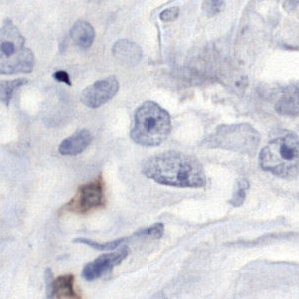Lymphocyte: (78, 179, 104, 210)
